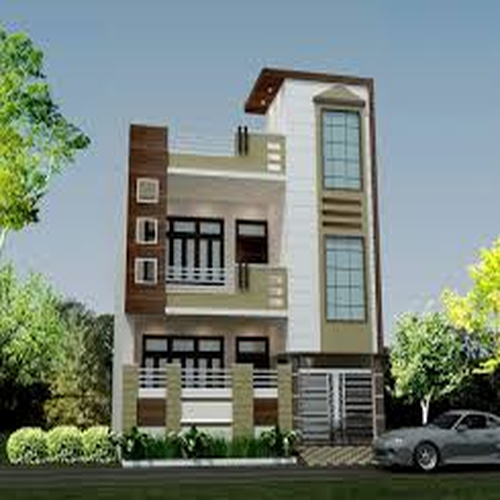Building House: (102, 65, 392, 453)
